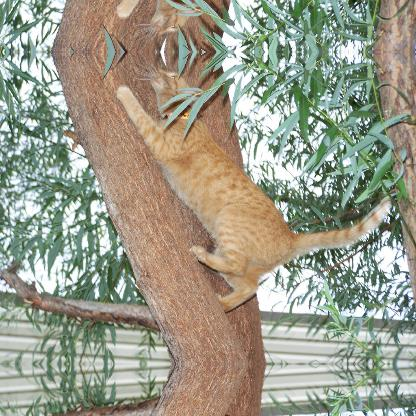Cat: (117, 51, 394, 312)
